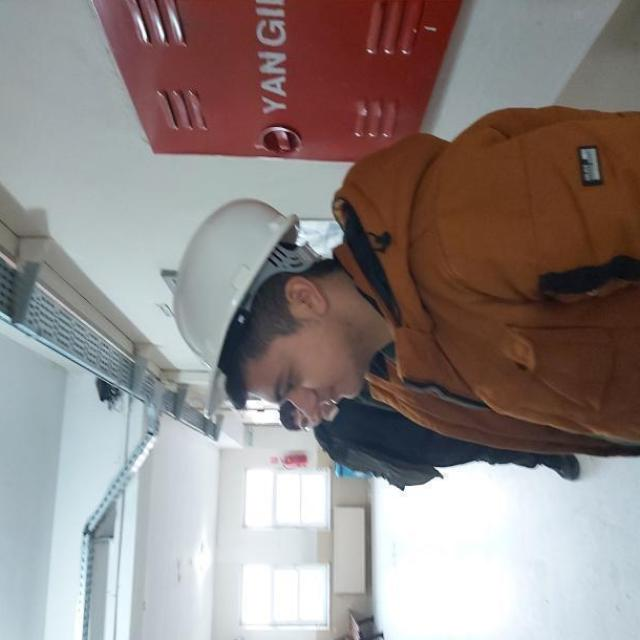helmet: (171, 197, 320, 418)
